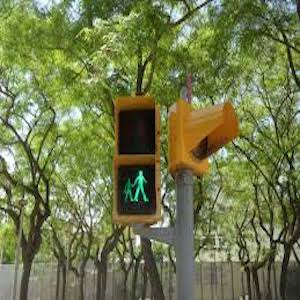green: (122, 164, 154, 209)
